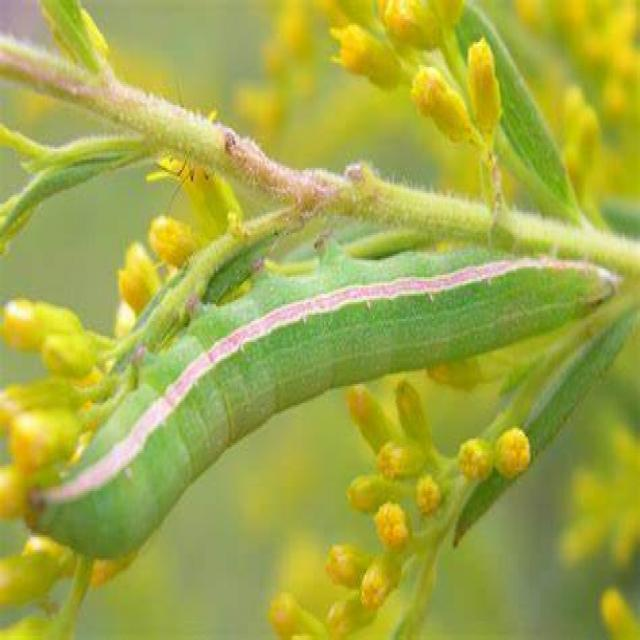caterpillar: (22, 211, 622, 570)
